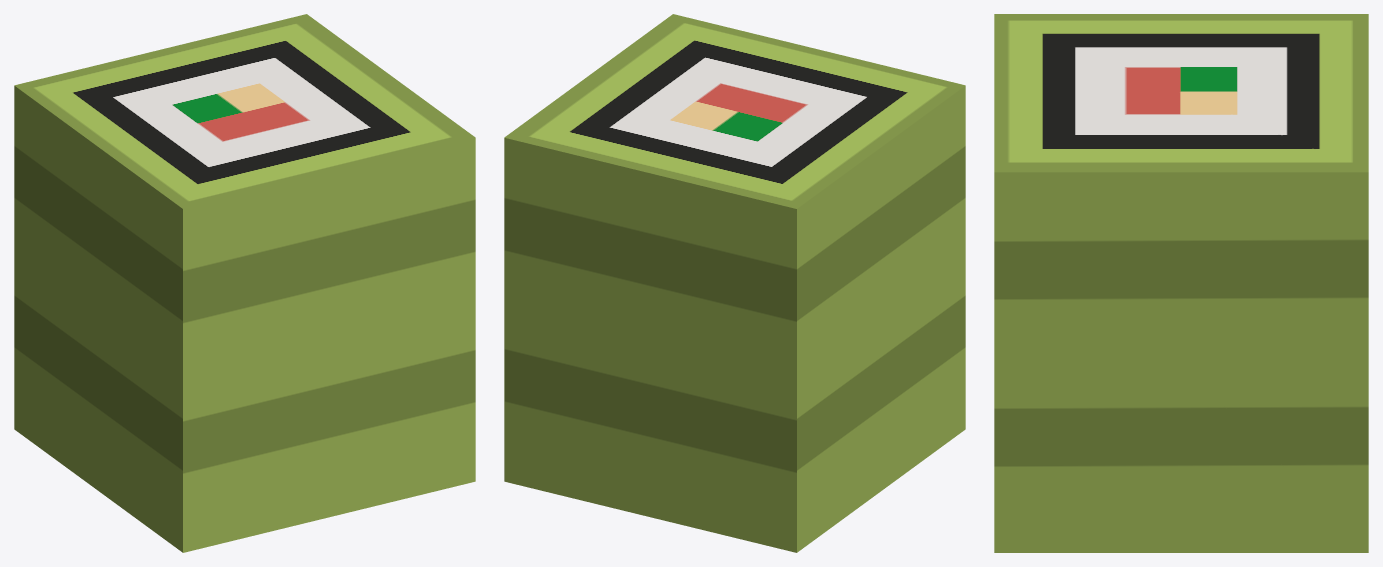
The model's file is Sushi-11.fbx.
The picture shows the model from 3 angles, left to right: view 1: azimuth 30°, elevation 25°; view 2: azimuth 150°, elevation 25°; view 3: azimuth 270°, elevation 25°; orthographic projection. The views are drawn at different scales.
Visible parts, largest first — view 1: Cube; view 2: Cube; view 3: Cube.
Boxes of the visible parts, left/top/right/bottom form: Cube: left=14, top=14, right=475, bottom=552; Cube: left=504, top=14, right=965, bottom=552; Cube: left=994, top=14, right=1368, bottom=552.
Size of the model in its own units: 196 by 220 by 196.
1 material, 1 textured.
